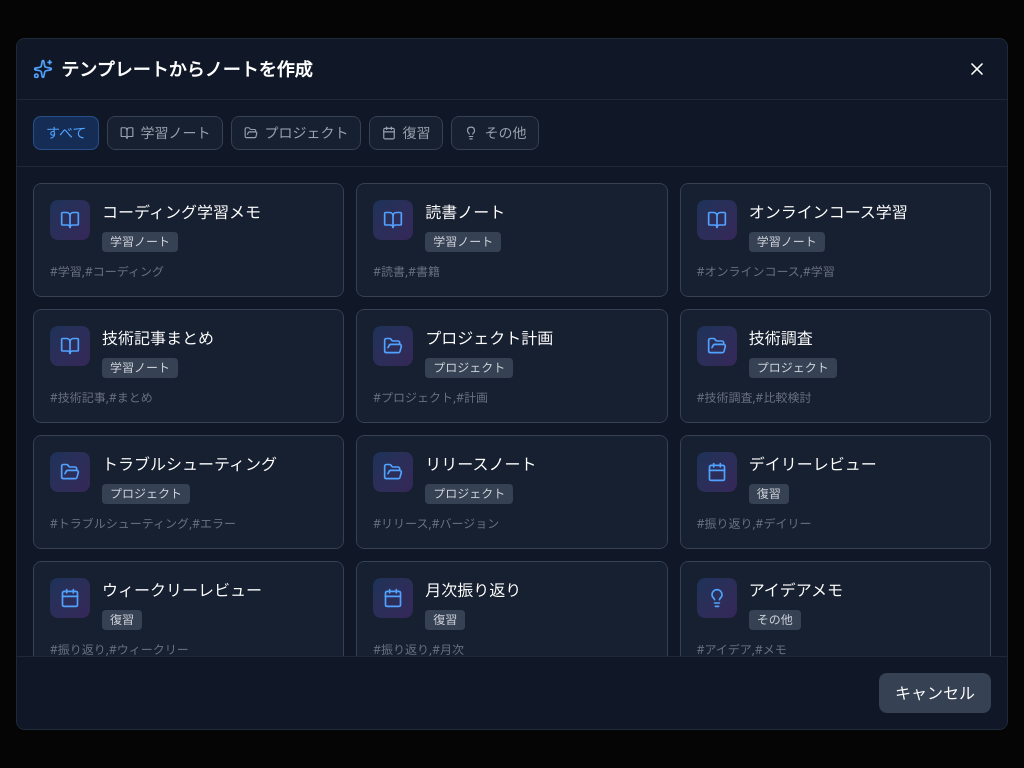
Test case: NoteTemplatesModal › カテゴリフィルター選択で表示が絞り込まれる
// 「学習ノート」フィルターをクリック
Click the button "学習ノート": (166,133) x1=108 y1=116 x2=224 y2=150
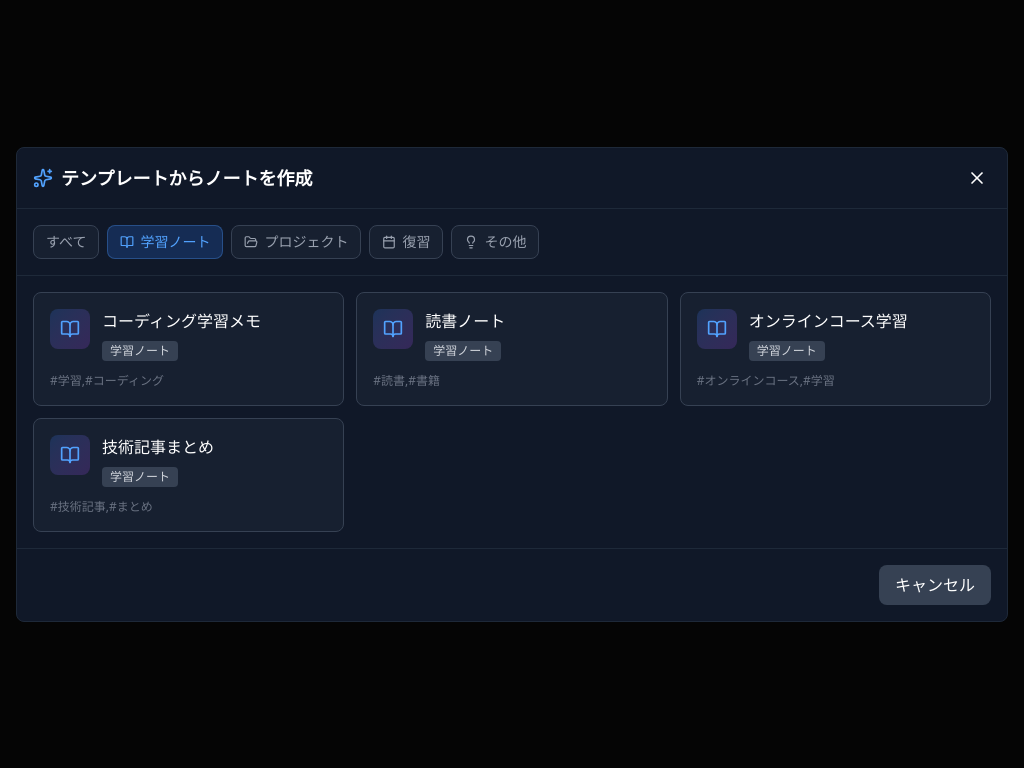
expect the heading "コーディング学習メモ" is shown: met, box x1=102 y1=310 x2=261 y2=332
expect the button "プロジェクト計画" is gone: met
